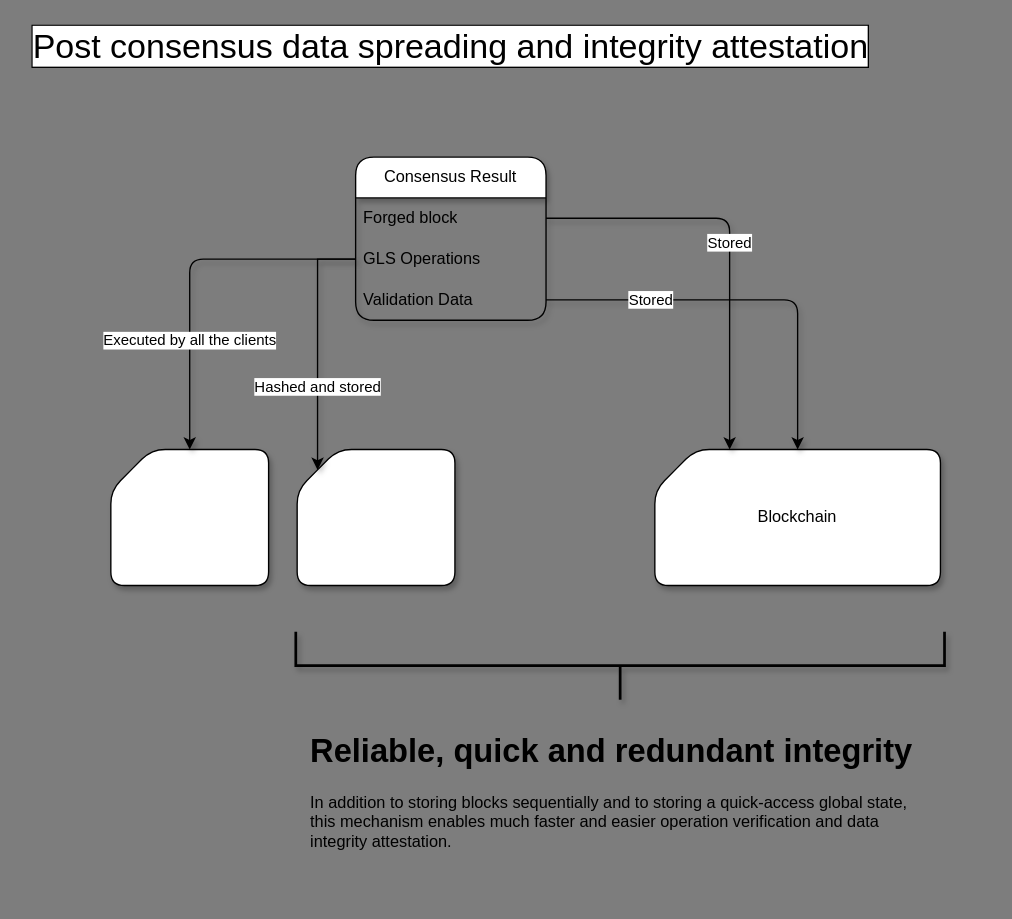
The diagram is 1012 pixels wide and 919 high, and some of its shapes have lost their labels. Each missing label, with the centre of its shape:
GLS Hashes: the point at 376,519
GLS Native GLS Properties: the point at 190,519
